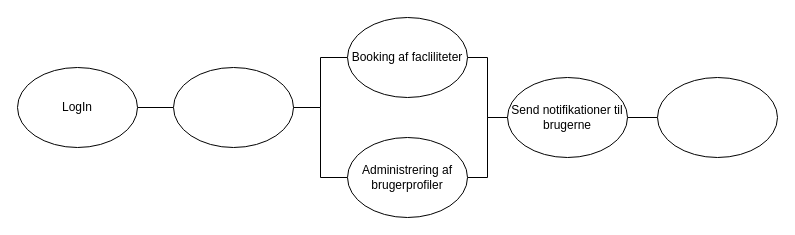
The diagram is 795 pixels wide and 235 high, and some of its shapes have lost their labels. Here are the shapes that lost their labels. From the top down, the centre of each, then its label:
the point at 233,107: Opdaterere bestyrelsesoplysninger
the point at 717,117: Upload af dokumenter
